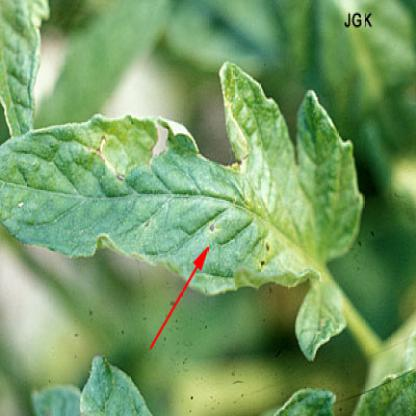Tomato leaf bacterial spot: (2, 61, 367, 301)
